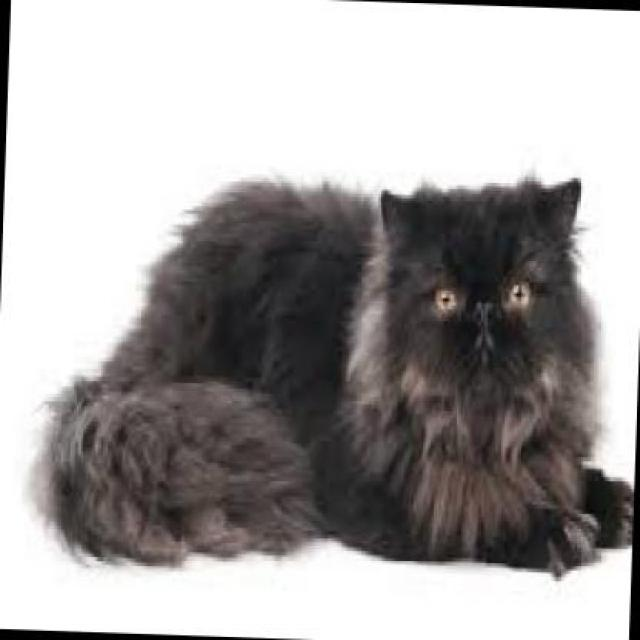animals: (46, 145, 639, 584)
